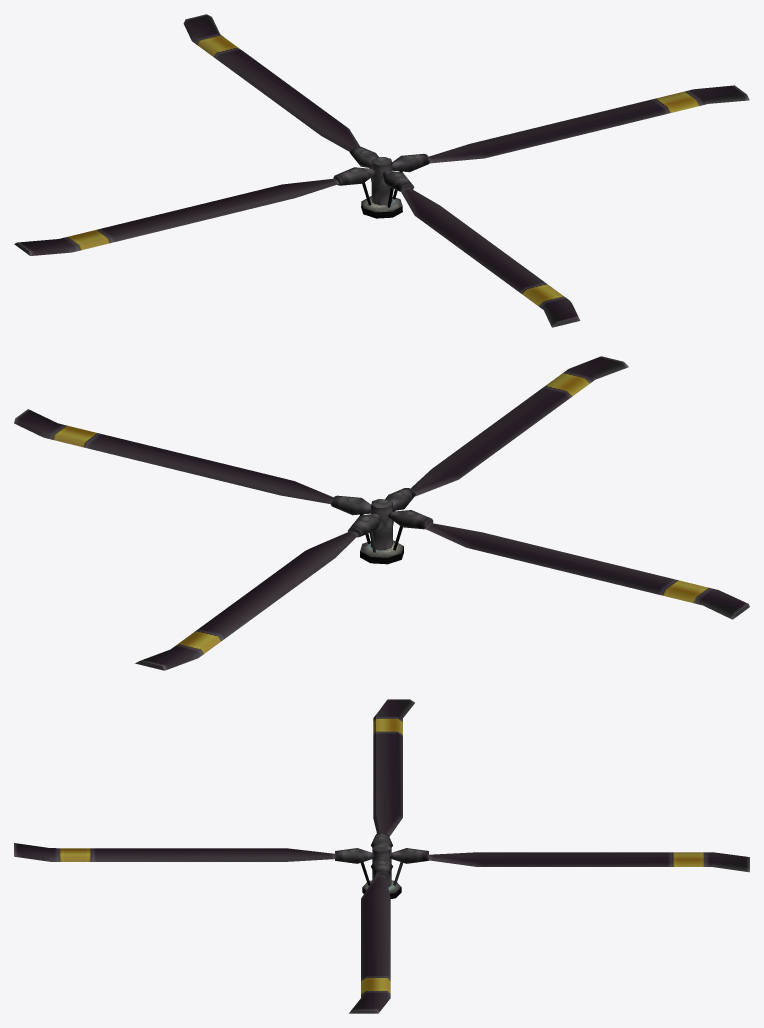
Rendered from Apache_Rotor.obj.
The picture shows the model from 3 angles, top to bottom: view 1: azimuth 30°, elevation 25°; view 2: azimuth 150°, elevation 25°; view 3: azimuth 270°, elevation 25°; orthographic projection. The views are drawn at different scales.
Parts seen in each view (by area): view 1: Apache_Maya_Centered:Mesh; view 2: Apache_Maya_Centered:Mesh; view 3: Apache_Maya_Centered:Mesh.
Part boxes in pixels (bbox=[...]): Apache_Maya_Centered:Mesh: bbox=[14, 14, 749, 327]; Apache_Maya_Centered:Mesh: bbox=[14, 356, 749, 670]; Apache_Maya_Centered:Mesh: bbox=[14, 699, 749, 1013].
Size of the model in its own units: 8.53 by 0.6146 by 8.53.
Materials: 1 (1 with a texture image).
